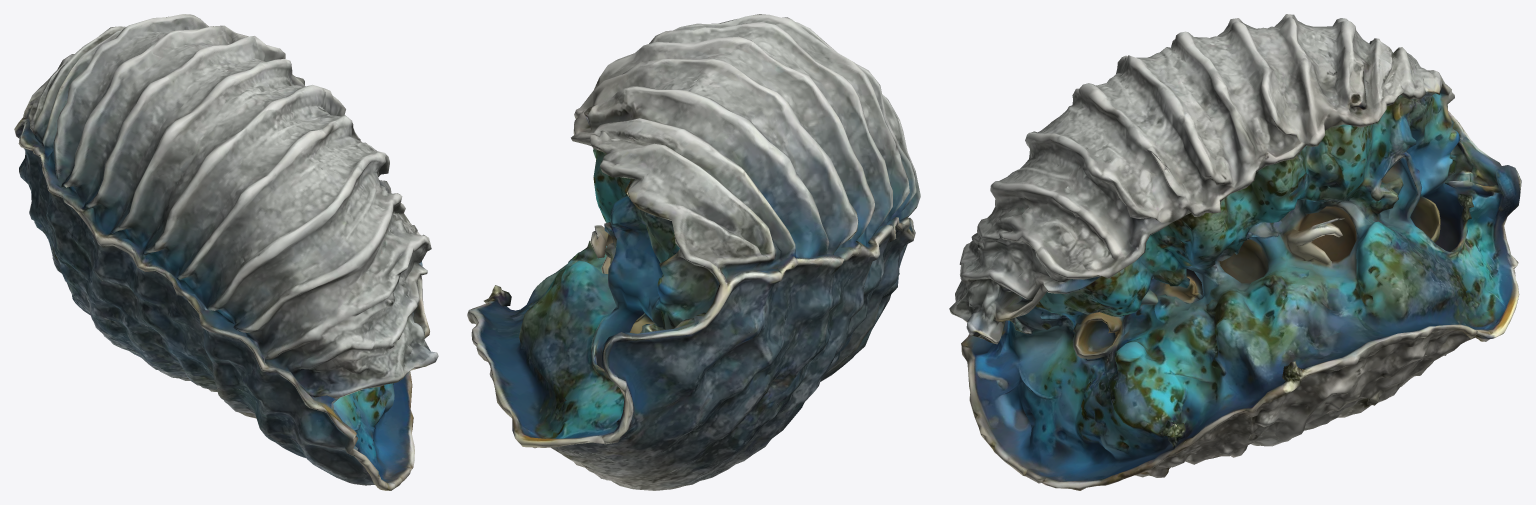
File: clam_tridacna.glb
3 views of the same model, side by side, from view 1: azimuth 30°, elevation 25°; view 2: azimuth 150°, elevation 25°; view 3: azimuth 270°, elevation 25° (orthographic). The views are drawn at different scales.
Visible parts, largest first — view 1: tripo_node_a87803ff-2e47-4f26-8a41-d0aa0d2775aa; view 2: tripo_node_a87803ff-2e47-4f26-8a41-d0aa0d2775aa; view 3: tripo_node_a87803ff-2e47-4f26-8a41-d0aa0d2775aa.
Boxes of the visible parts, <box> form: tripo_node_a87803ff-2e47-4f26-8a41-d0aa0d2775aa: <box>14,14,438,490</box>; tripo_node_a87803ff-2e47-4f26-8a41-d0aa0d2775aa: <box>467,14,920,490</box>; tripo_node_a87803ff-2e47-4f26-8a41-d0aa0d2775aa: <box>949,14,1521,490</box>.
Bounding box in the file's own units: 0.6597 × 0.7812 × 1.
1 material, 1 textured.
